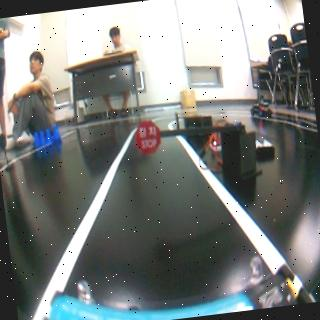stop: (133, 118, 163, 154)
